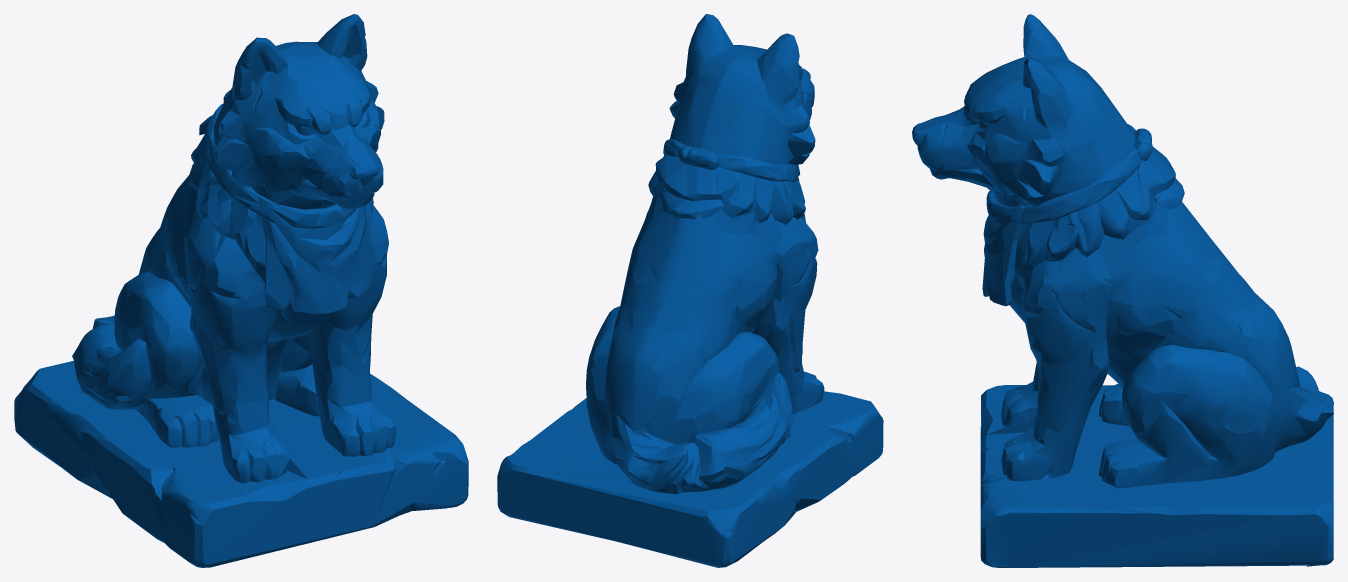
File: guardian_statue.glb
3 views of the same model, side by side, from view 1: azimuth 30°, elevation 25°; view 2: azimuth 150°, elevation 25°; view 3: azimuth 270°, elevation 25° (orthographic). The views are drawn at different scales.
Visible parts, largest first — view 1: guardian_statue; view 2: guardian_statue; view 3: guardian_statue.
Boxes of the visible parts, x1,y1,x2,y2 form: guardian_statue: [14, 14, 468, 567]; guardian_statue: [497, 14, 883, 567]; guardian_statue: [912, 14, 1333, 567].
Bounding box in the file's own units: 1.51 × 2.6 × 2.12.
Materials: 1 (1 with a texture image).
